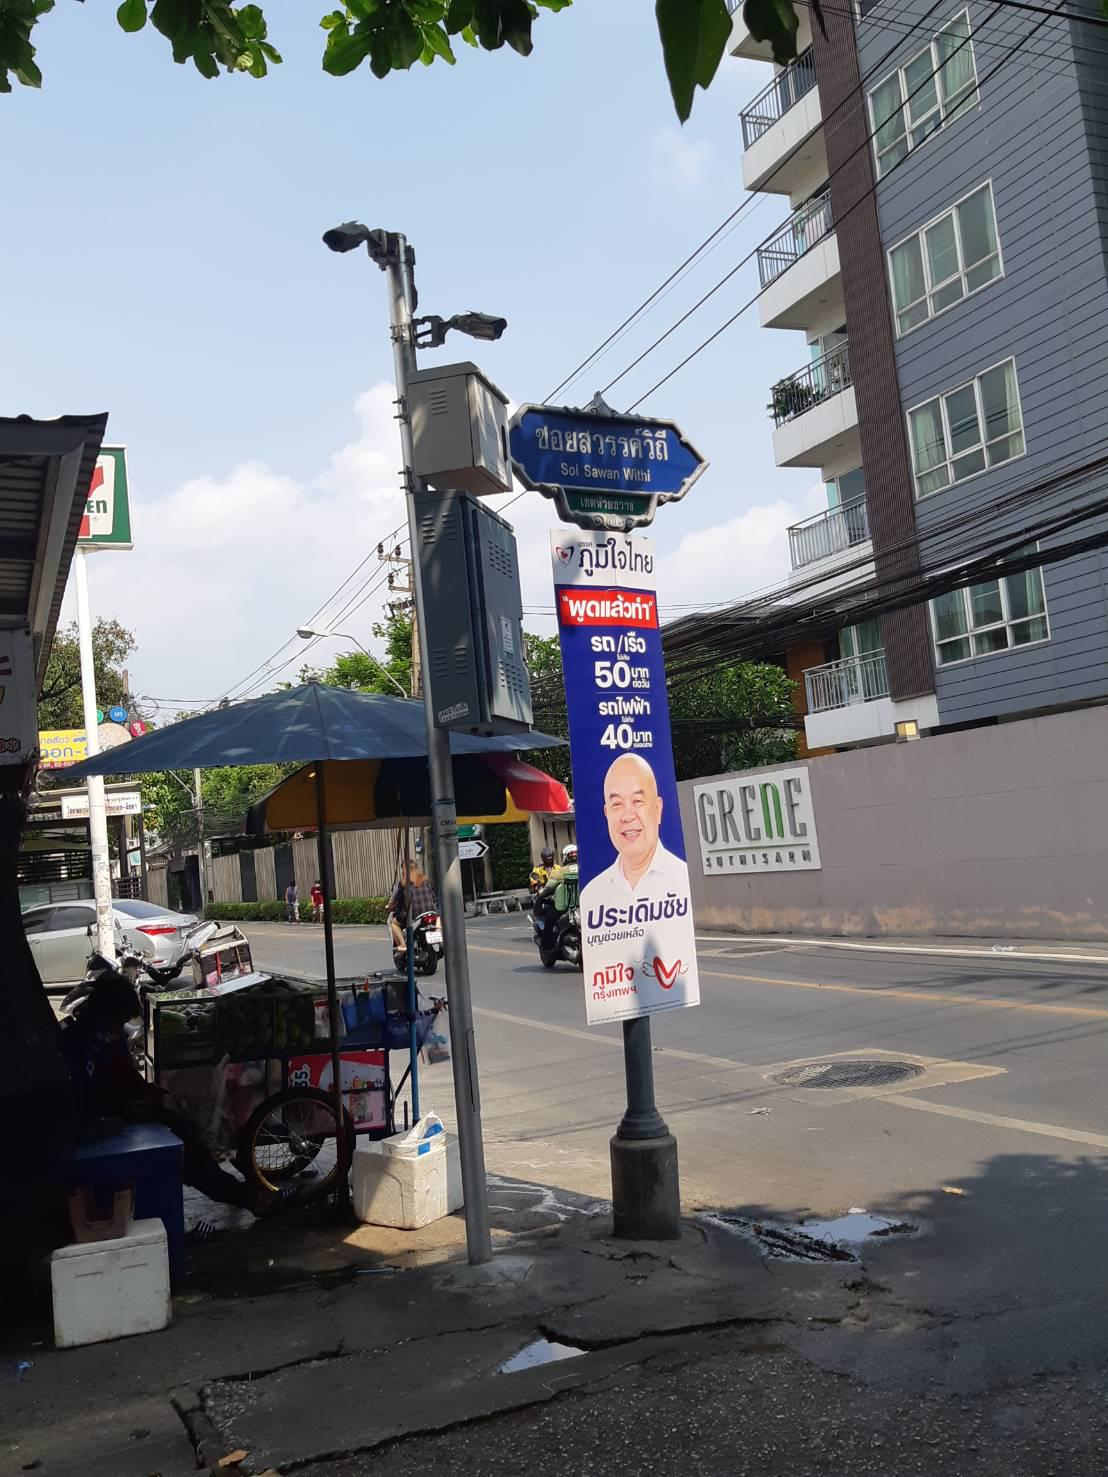Banner: (544, 513, 692, 1031)
